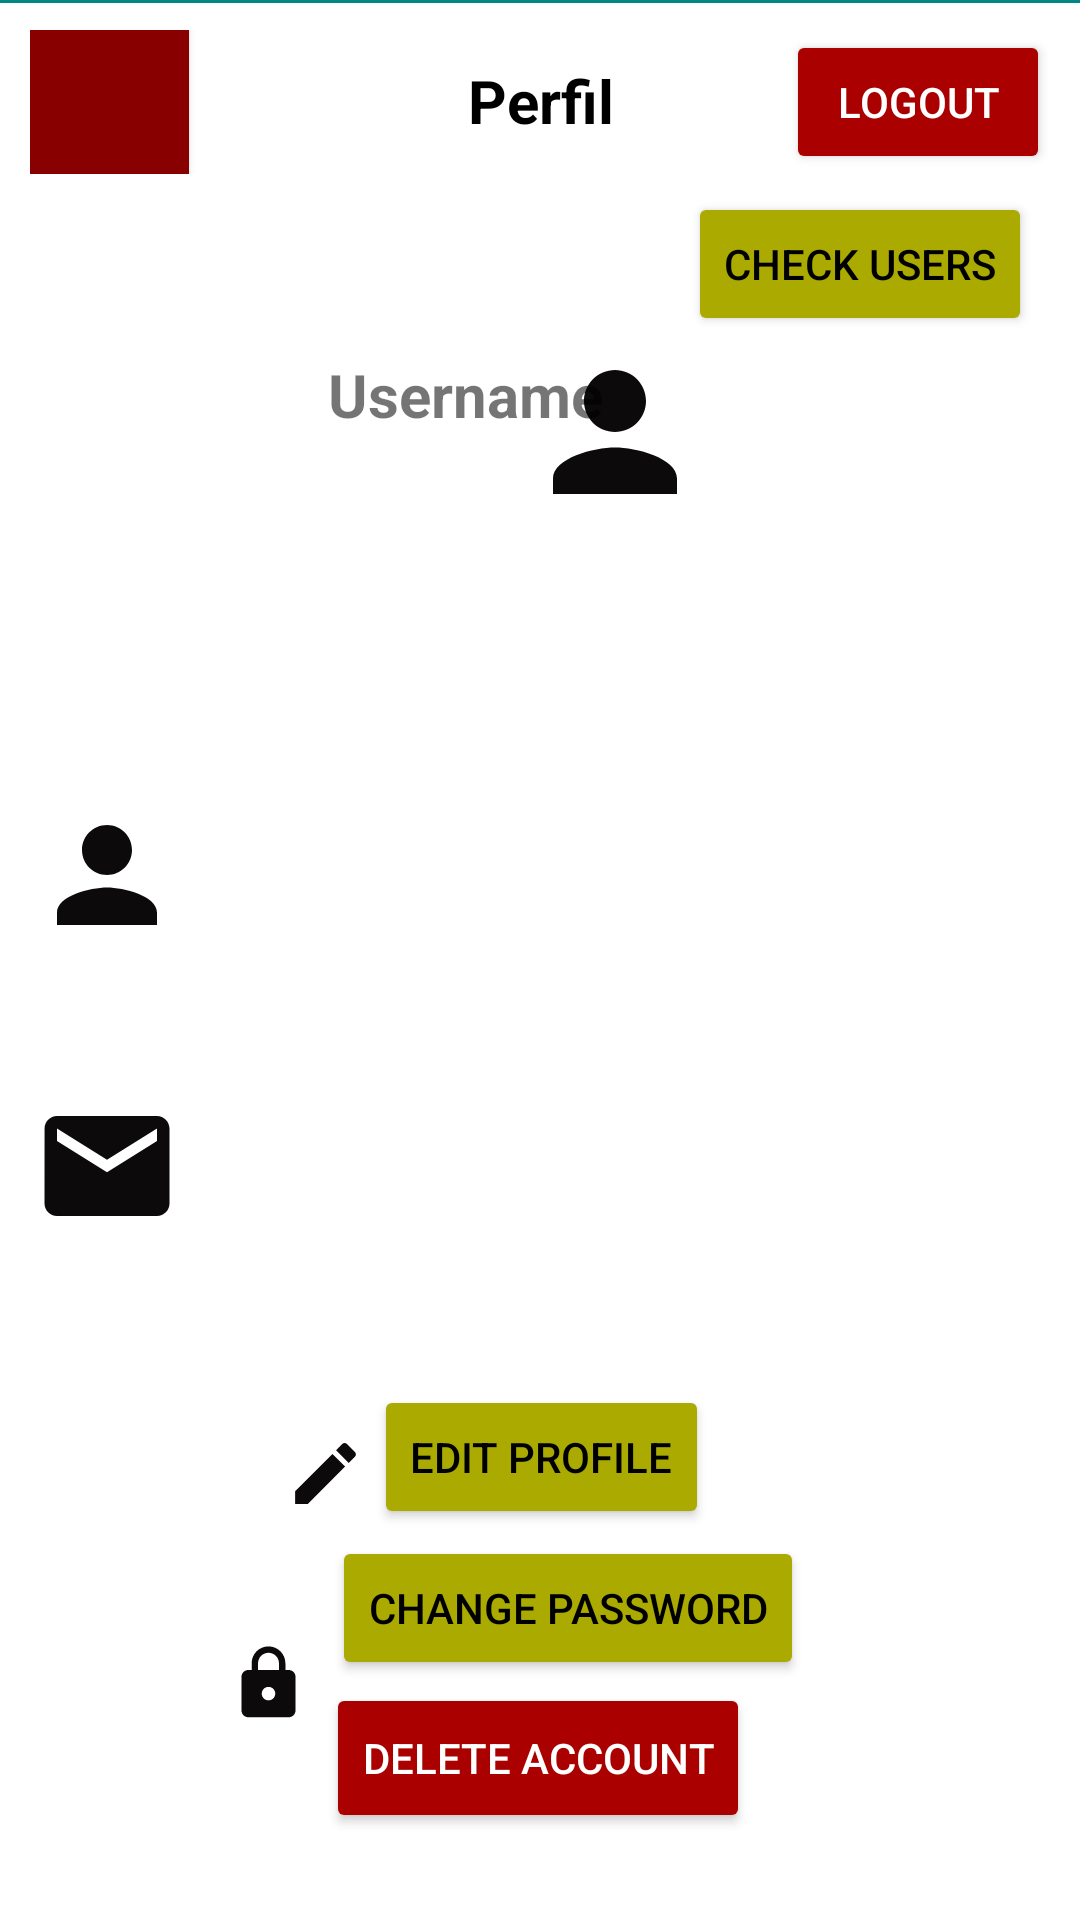

Named icons in this screenshot (1080px x 1920px) and their bounding boxes, (x1, y1, x2, y2):
email: (44, 1116, 170, 1216)
lock: (241, 1646, 296, 1718)
